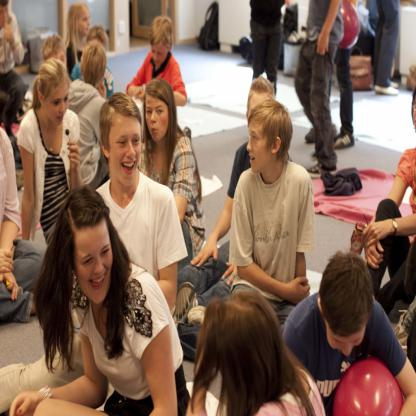Ball: (332, 358, 403, 416)
